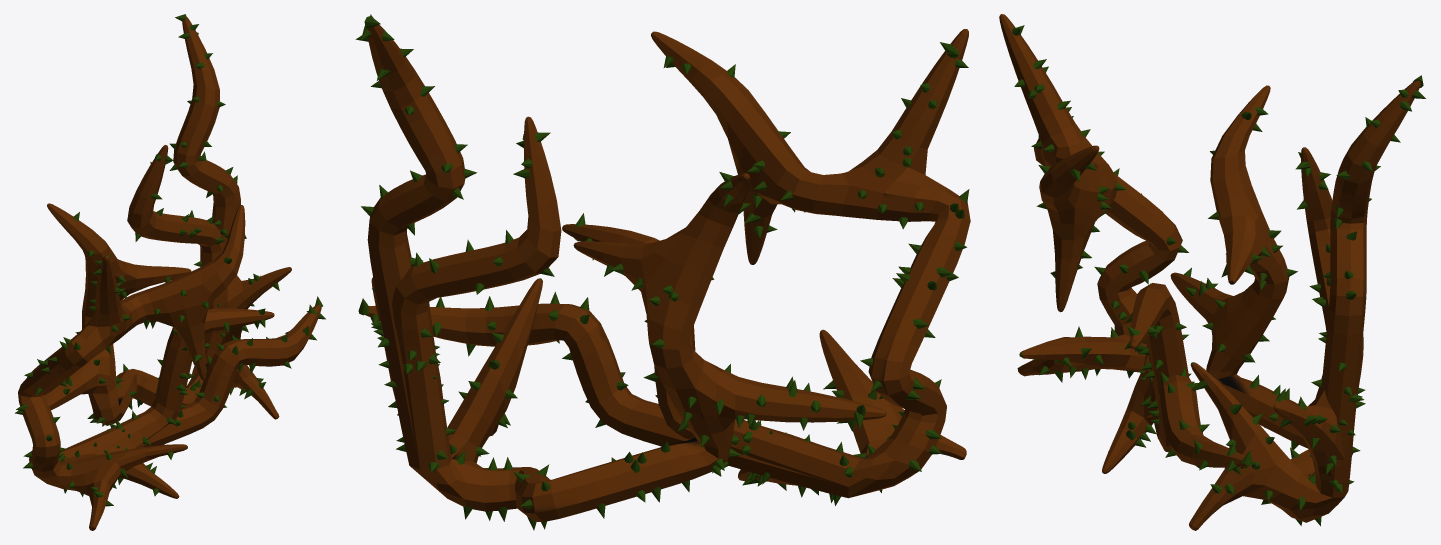
The model's file is Obstaculo_Pasillo.002.glb.
3 views of the same model, side by side, from view 1: azimuth 30°, elevation 25°; view 2: azimuth 150°, elevation 25°; view 3: azimuth 270°, elevation 25° (orthographic). The views are drawn at different scales.
Visible parts, largest first — view 1: Obstaculo_Pasillo.002; view 2: Obstaculo_Pasillo.002; view 3: Obstaculo_Pasillo.002.
Boxes of the visible parts, <box> form: Obstaculo_Pasillo.002: <box>15,14,325,530</box>; Obstaculo_Pasillo.002: <box>355,14,970,530</box>; Obstaculo_Pasillo.002: <box>999,14,1425,530</box>.
Bounding box in the file's own units: 6.46 × 6.56 × 5.33.
1 material, 1 textured.
